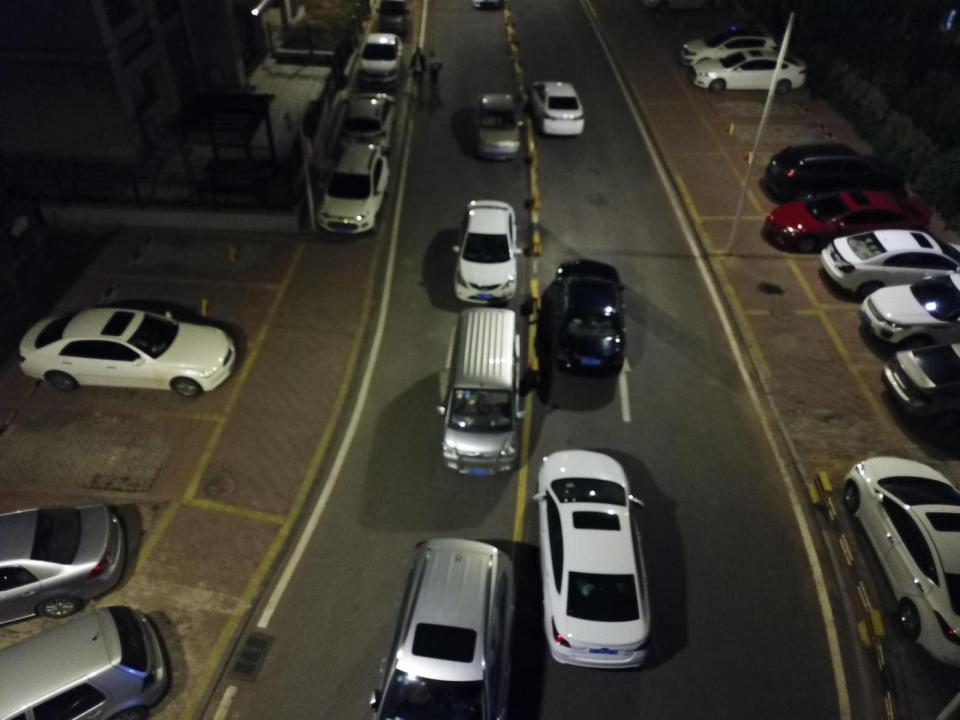car: (369, 537, 519, 720), (532, 450, 654, 670), (837, 454, 960, 664), (16, 306, 238, 399), (0, 604, 173, 719), (0, 499, 130, 628), (763, 191, 933, 255), (818, 225, 960, 299), (547, 259, 628, 379), (858, 272, 960, 356), (768, 145, 906, 205), (881, 342, 960, 438), (455, 196, 521, 305), (319, 142, 391, 238), (690, 47, 807, 92), (680, 23, 787, 71), (334, 92, 395, 157), (472, 92, 526, 160), (529, 81, 585, 138), (357, 30, 407, 83), (375, 1, 414, 37)
van: (436, 306, 524, 474)
